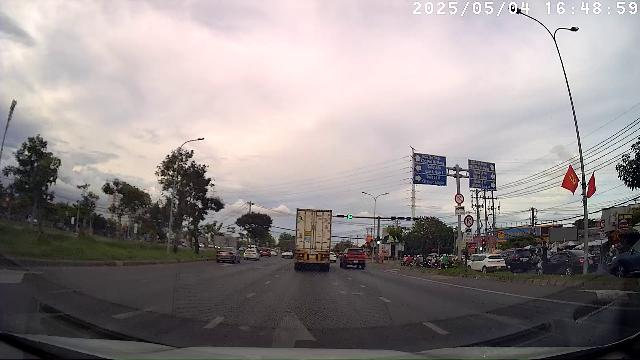123b-cam-re-phai: (464, 215, 474, 227), (455, 194, 465, 204)
